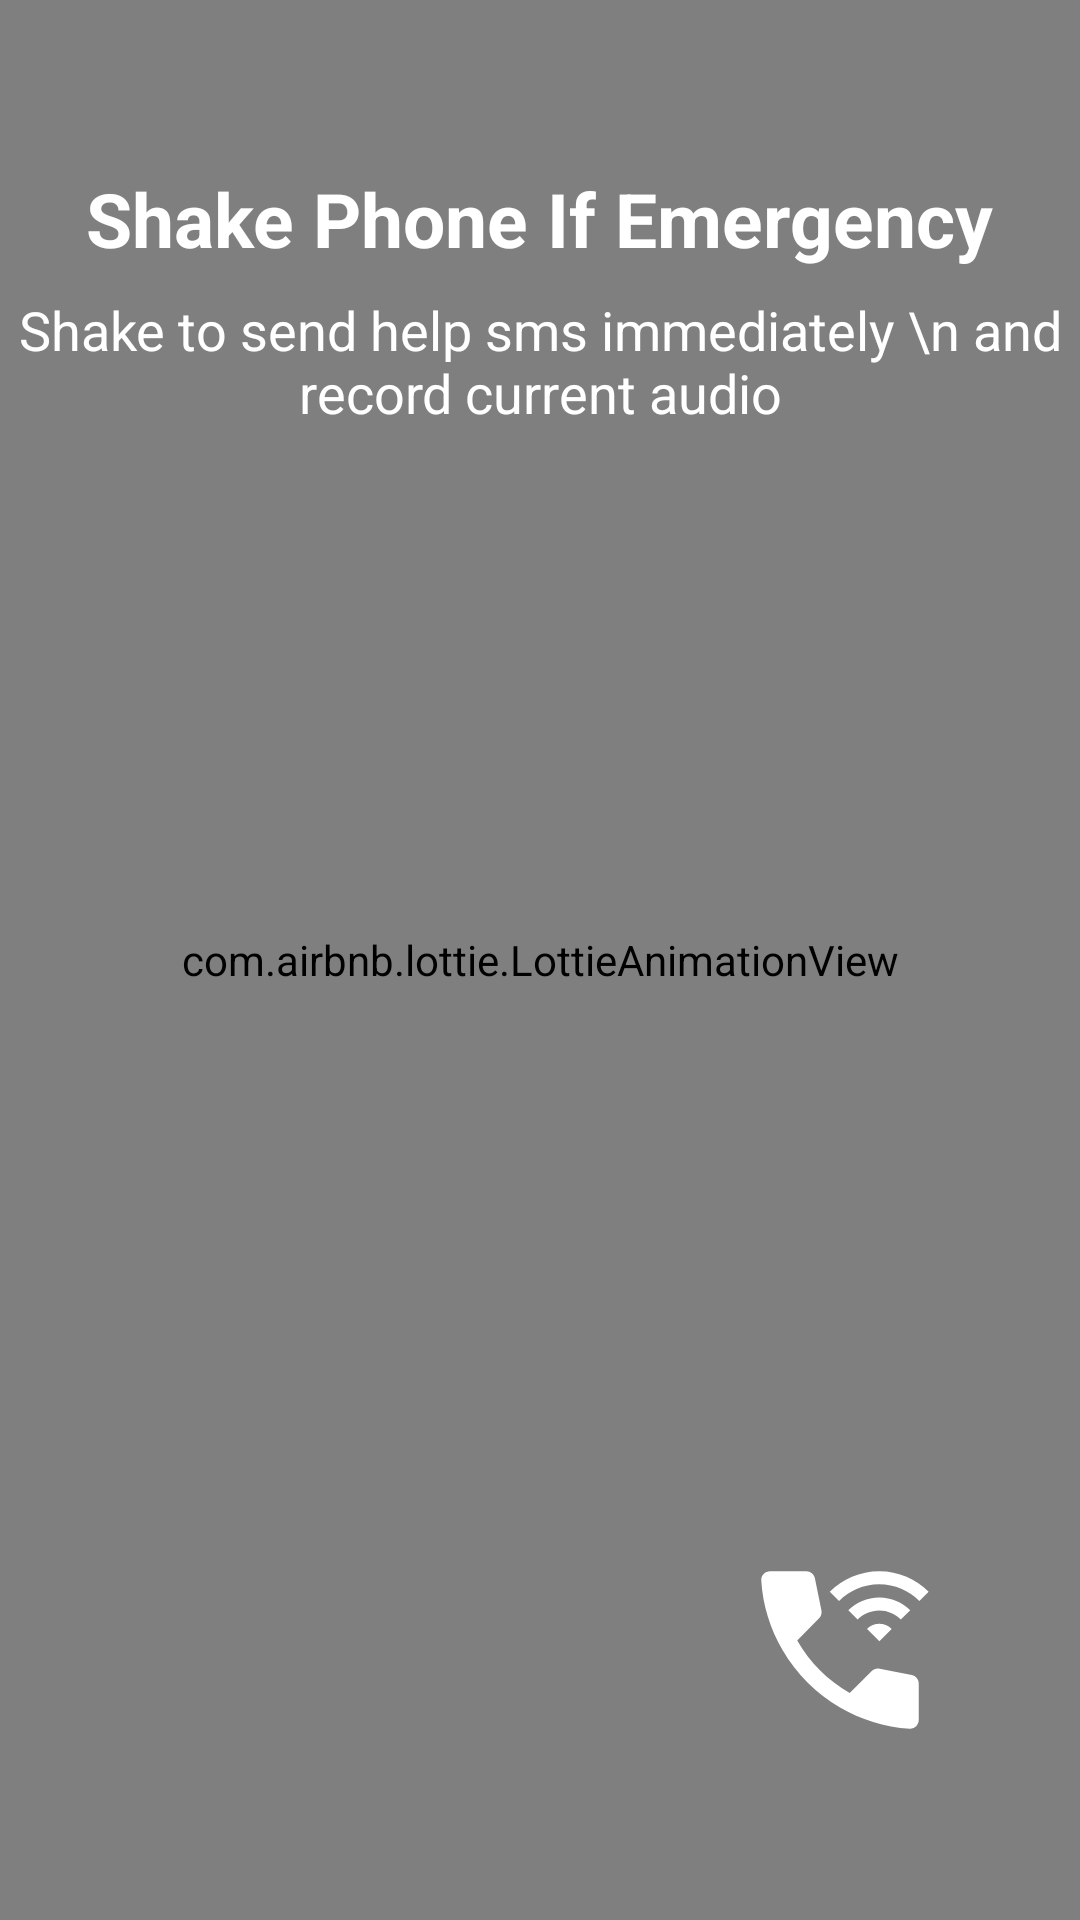

Where to tap for icons on this 1080x1920 app screen, as (x,y):
wifi calling: (845,1650)
